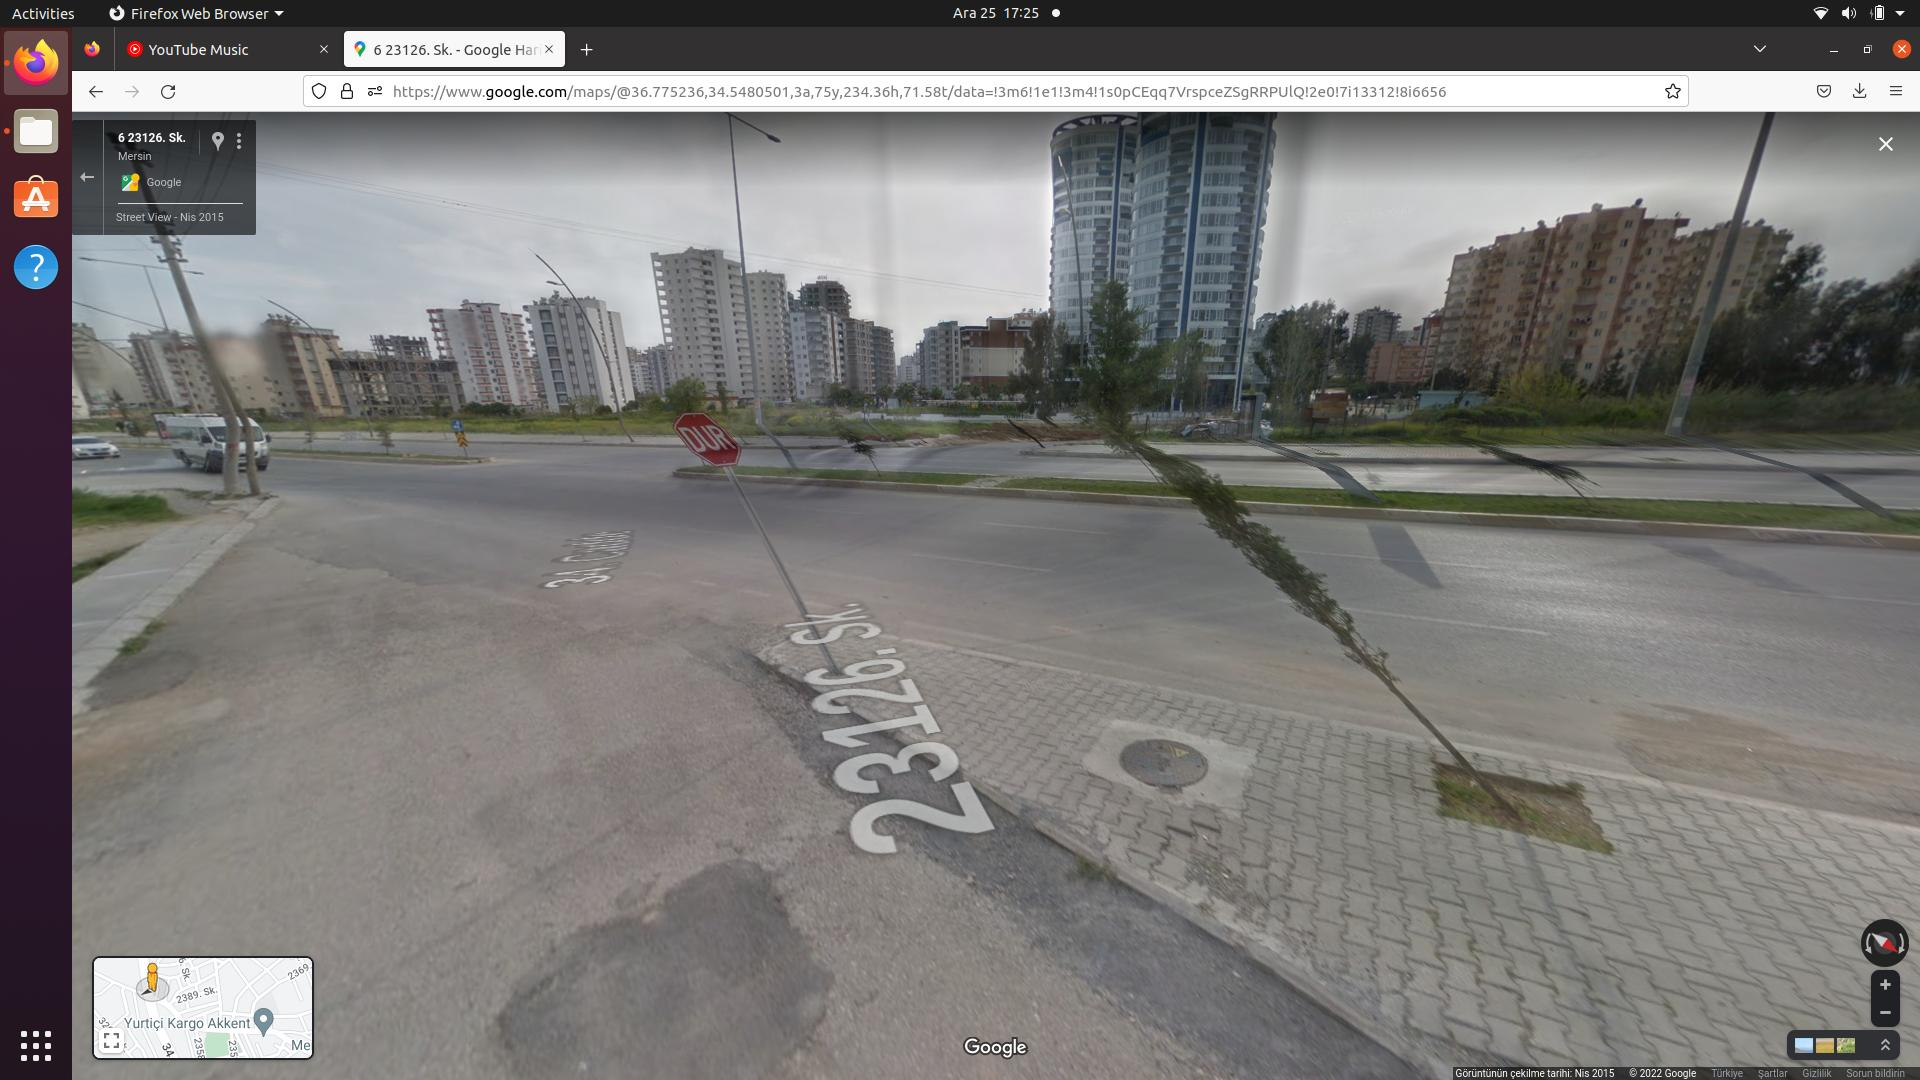stop: (673, 407, 746, 473)
